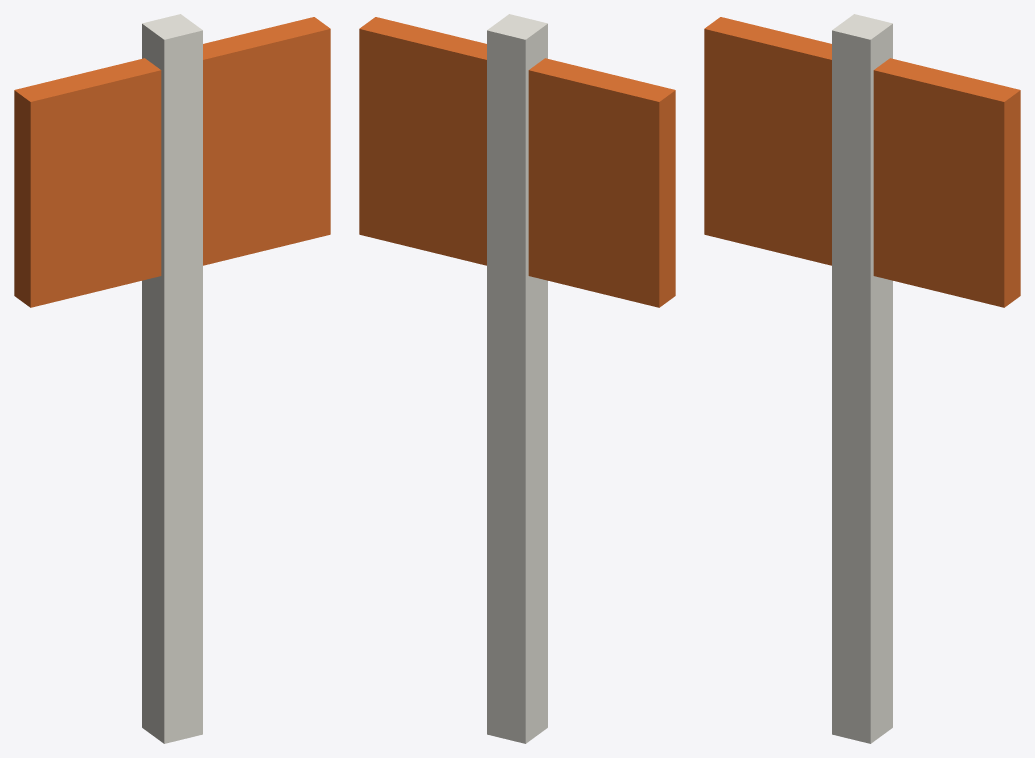
File: picket-for-sale-sign.glb
The picture shows the model from 3 angles, left to right: view 1: azimuth 30°, elevation 25°; view 2: azimuth 150°, elevation 25°; view 3: azimuth 330°, elevation 25°; orthographic projection.
Visible parts, largest first — view 1: Blank_Orange_Board, Sign_Post; view 2: Blank_Orange_Board, Sign_Post; view 3: Blank_Orange_Board, Sign_Post.
Part boxes in pixels (box(x1,y1,x2,y2)): Blank_Orange_Board: box(14, 17, 330, 307); Sign_Post: box(142, 14, 202, 743); Blank_Orange_Board: box(359, 17, 675, 307); Sign_Post: box(487, 14, 547, 743); Blank_Orange_Board: box(704, 17, 1020, 307); Sign_Post: box(832, 14, 892, 743).
Size of the model in its own units: 0.58 by 1.3 by 0.075.
